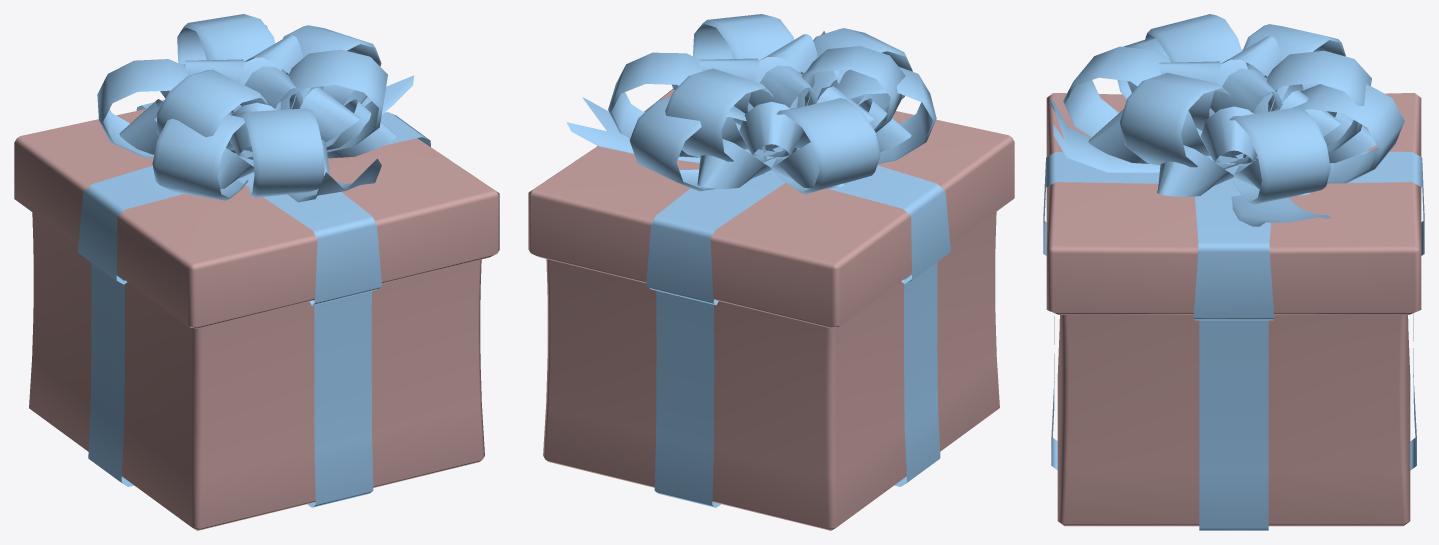
The model's file is Present.fbx.
3 views of the same model, side by side, from view 1: azimuth 30°, elevation 25°; view 2: azimuth 150°, elevation 25°; view 3: azimuth 270°, elevation 25° (orthographic). The views are drawn at different scales.
Parts seen in each view (by area): view 1: Present_Box, Present_Lid, Bow_A, Bow_C, Bow_B; view 2: Present_Box, Present_Lid, Bow_A, Bow_C, Bow_B; view 3: Present_Box, Present_Lid, Bow_A, Bow_C, Bow_B.
Part boxes in pixels (x1,y1,x2,y2): Present_Box: [29, 212, 484, 530]; Present_Lid: [14, 100, 499, 328]; Bow_A: [97, 14, 387, 197]; Bow_C: [119, 35, 396, 188]; Bow_B: [152, 25, 414, 202]; Present_Box: [543, 212, 999, 530]; Present_Lid: [528, 89, 1014, 328]; Bow_A: [608, 14, 912, 193]; Bow_C: [672, 34, 911, 189]; Bow_B: [566, 31, 936, 191]; Present_Box: [1051, 313, 1416, 530]; Present_Lid: [1043, 93, 1424, 320]; Bow_A: [1063, 14, 1371, 204]; Bow_C: [1088, 36, 1376, 197]; Bow_B: [1050, 38, 1404, 226].
Size of the model in its own units: 54.15 by 60.39 by 51.61.
